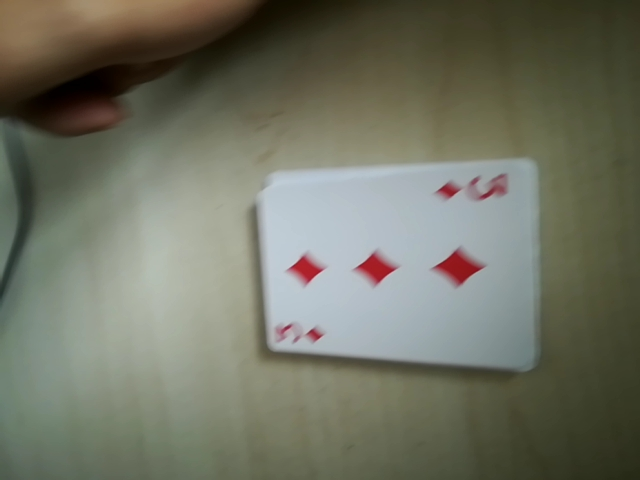fk 3: (433, 163, 517, 211), (267, 316, 331, 353)
